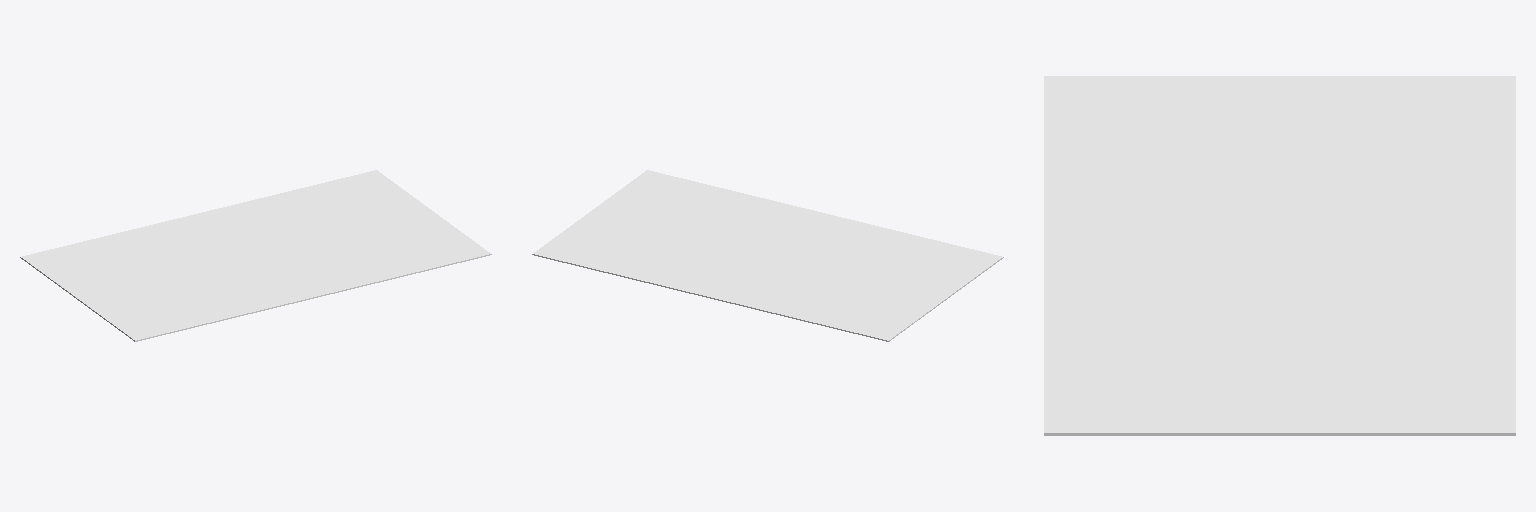
robot.urdf — Plan:
<?xml version="1.0"?>
<robot name="Plan">
	<link name="base">
	<inertial>
        	 <origin xyz="0 0 0" rpy="0 0 0"/>
        	 <mass value="5"/>
        	 <inertia ixx="0.000683333"  ixy="0"  ixz="0" iyy="0.000683333" iyz="0" izz="0.000683333" />
       </inertial>
		<visual>
			<origin xyz="0 0 0" rpy="0 0 0" />
			<geometry>
				<box size="0.6 0.335 0.002" />
			</geometry>
			<material>
				<color rgba="1 1 1 1" />
			</material>
		</visual>
	</link>
</robot>

--- What the picture shows (computed from the rendered views, not written in the file) ---
Views: 3 orthographic renders of the robot side by side, from view 1: azimuth 30°, elevation 25°; view 2: azimuth 150°, elevation 25°; view 3: azimuth 270°, elevation 25°.
Model Plan with 1 links and 0 joints (none), rooted at base, posed every joint at zero.
Visible links, largest first — view 1: base; view 2: base; view 3: base.
Link boxes in pixels (x1,y1,x2,y2): base: (20,170,491,341); base: (532,170,1003,341); base: (1044,76,1515,435).
Bounding box of the posed robot: 0.6 × 0.335 × 0.002 m (x, y, z).
Geometry: primitives only (box / cylinder / sphere), no mesh files.
